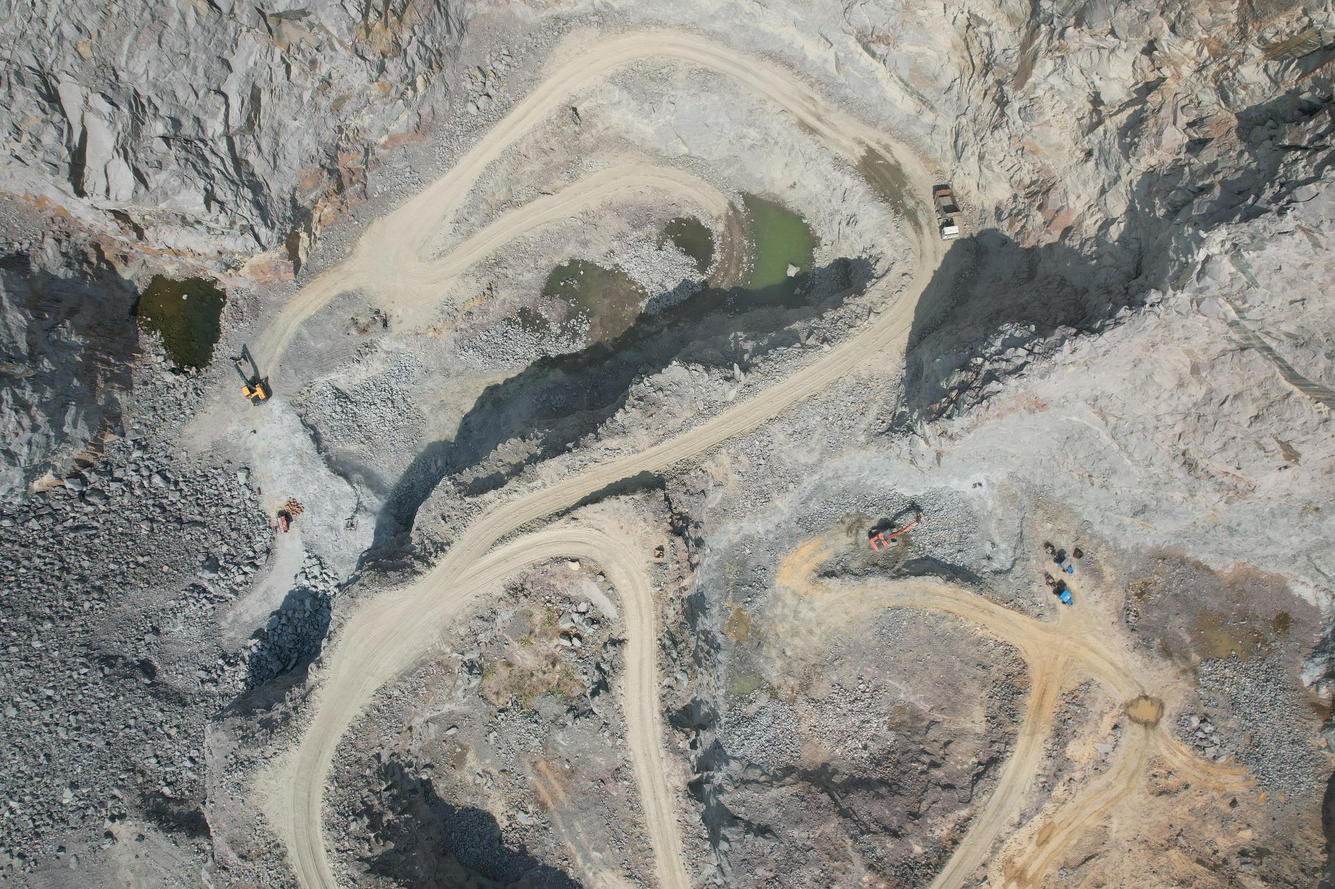benches: (271, 221, 947, 889), (262, 31, 922, 362), (772, 534, 1254, 889)
excavator: (867, 505, 925, 559), (227, 352, 271, 404)
truck: (932, 179, 964, 247)
